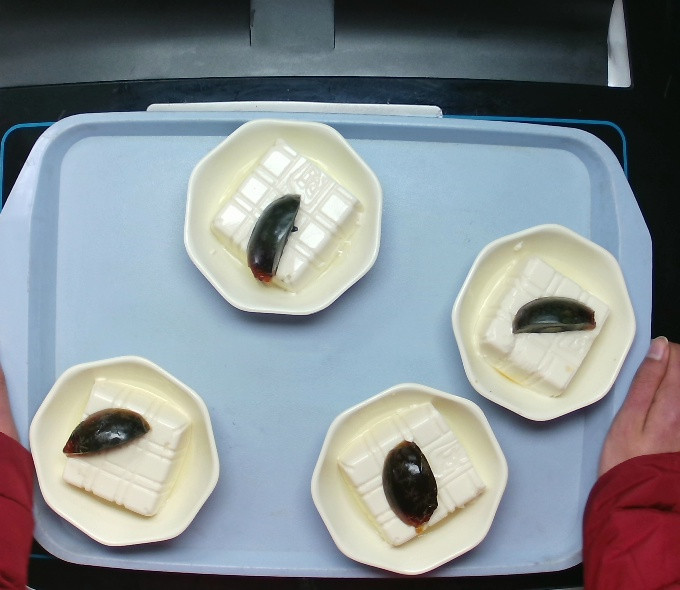wcq-PiDanDouFu: (332, 395, 491, 557), (208, 133, 364, 292), (474, 251, 621, 399), (58, 372, 197, 524)
